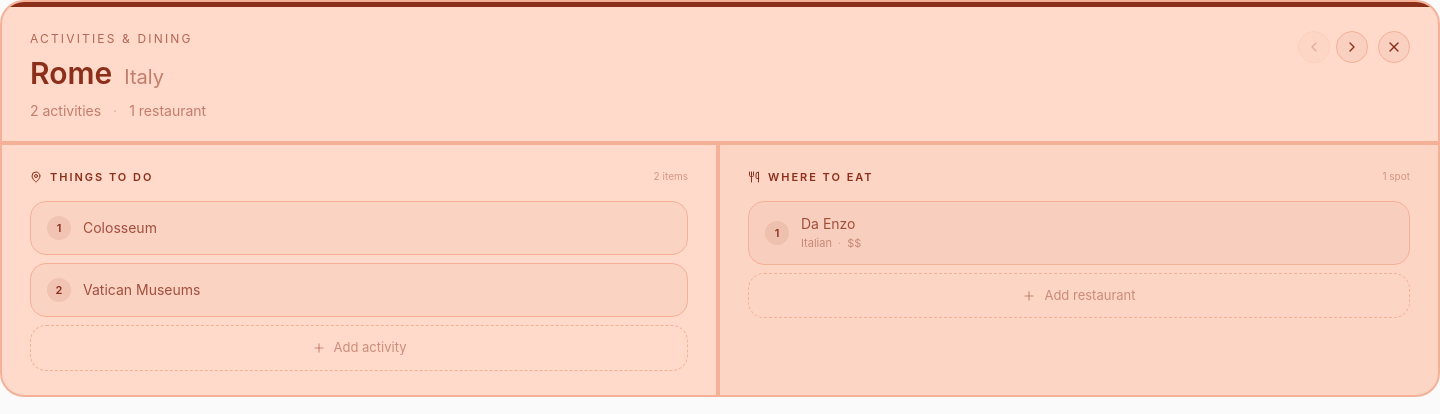
Test: ActivitiesDetailPanel lists across city switches › does not carry an open restaurant edit onto the next city's list
Later steps or results of the test are not shown.
Click the text "Da Enzo" at (828, 224), box [801, 215, 856, 232]
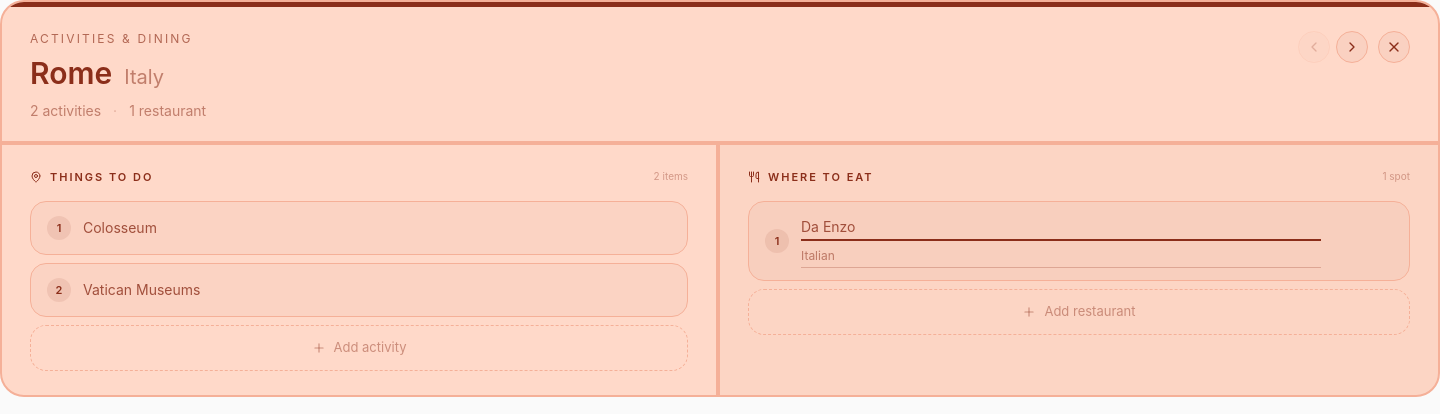
Now the 1st field showing "Da Enzo" is shown, box [801, 214, 1321, 241]
